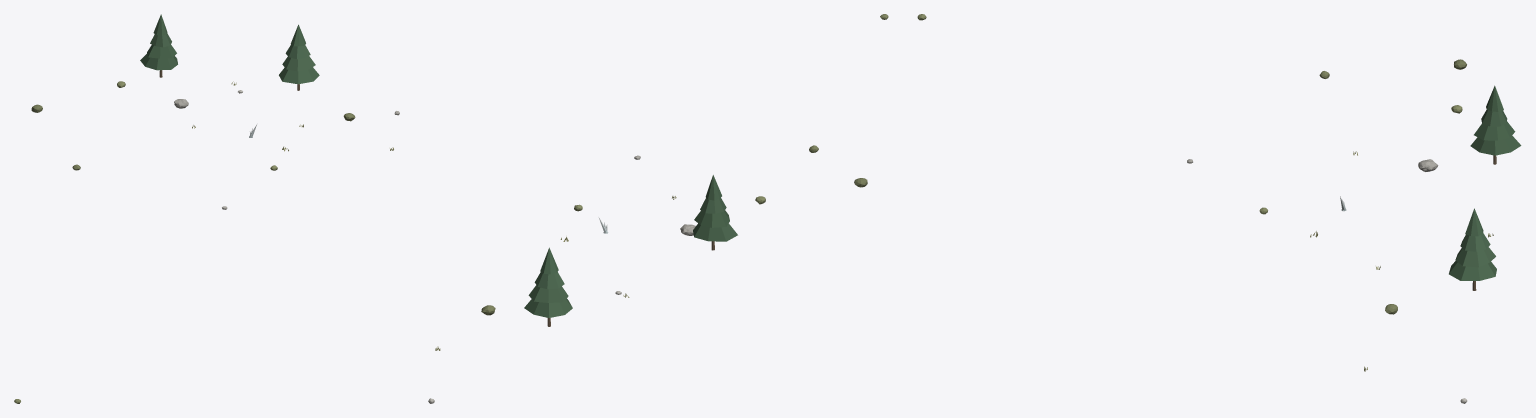
File: coast_land_scatter_c12_21.glb
3 renders of one model, left to right at view 1: azimuth 30°, elevation 25°; view 2: azimuth 210°, elevation 25°; view 3: azimuth 270°, elevation 25°, orthographic. The views are drawn at different scales.
Parts seen in each view (by area): view 1: coast_land_scatter_c12_21; view 2: coast_land_scatter_c12_21; view 3: coast_land_scatter_c12_21.
Boxes of the visible parts, box(x1,y1,x2,y2) form: coast_land_scatter_c12_21: box(14, 14, 399, 403); coast_land_scatter_c12_21: box(428, 14, 888, 403); coast_land_scatter_c12_21: box(917, 14, 1521, 403).
Size of the model in its own units: 126 by 29.39 by 88.26.
